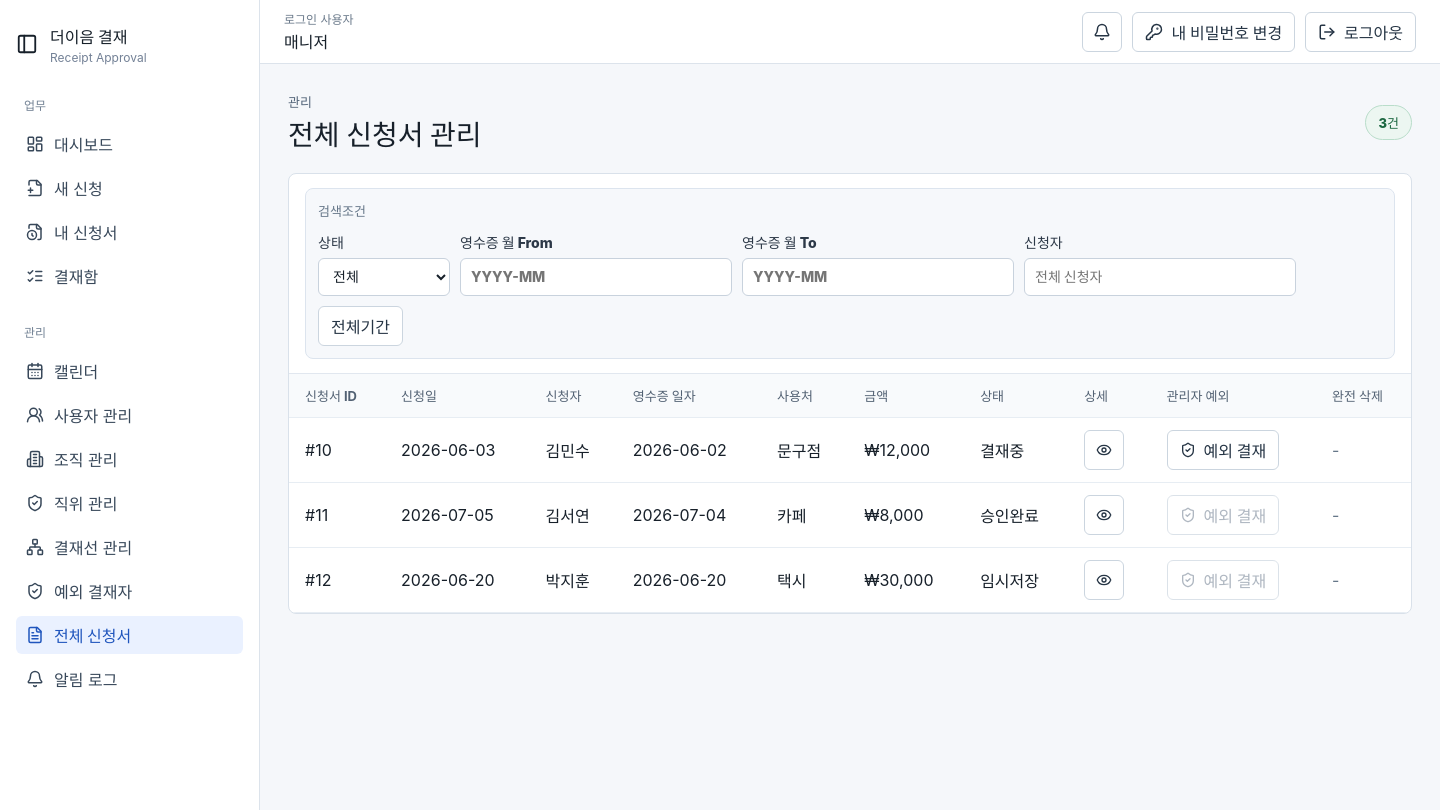
Test: AdminApplicationsPage › 매니저는 전체 신청서에서 상세 화면으로 이동할 수 있다
The width and height of the screenshot is (1440, 810).
Click the link named "신청서 10 상세": (1104, 450) [1084,430,1124,470]
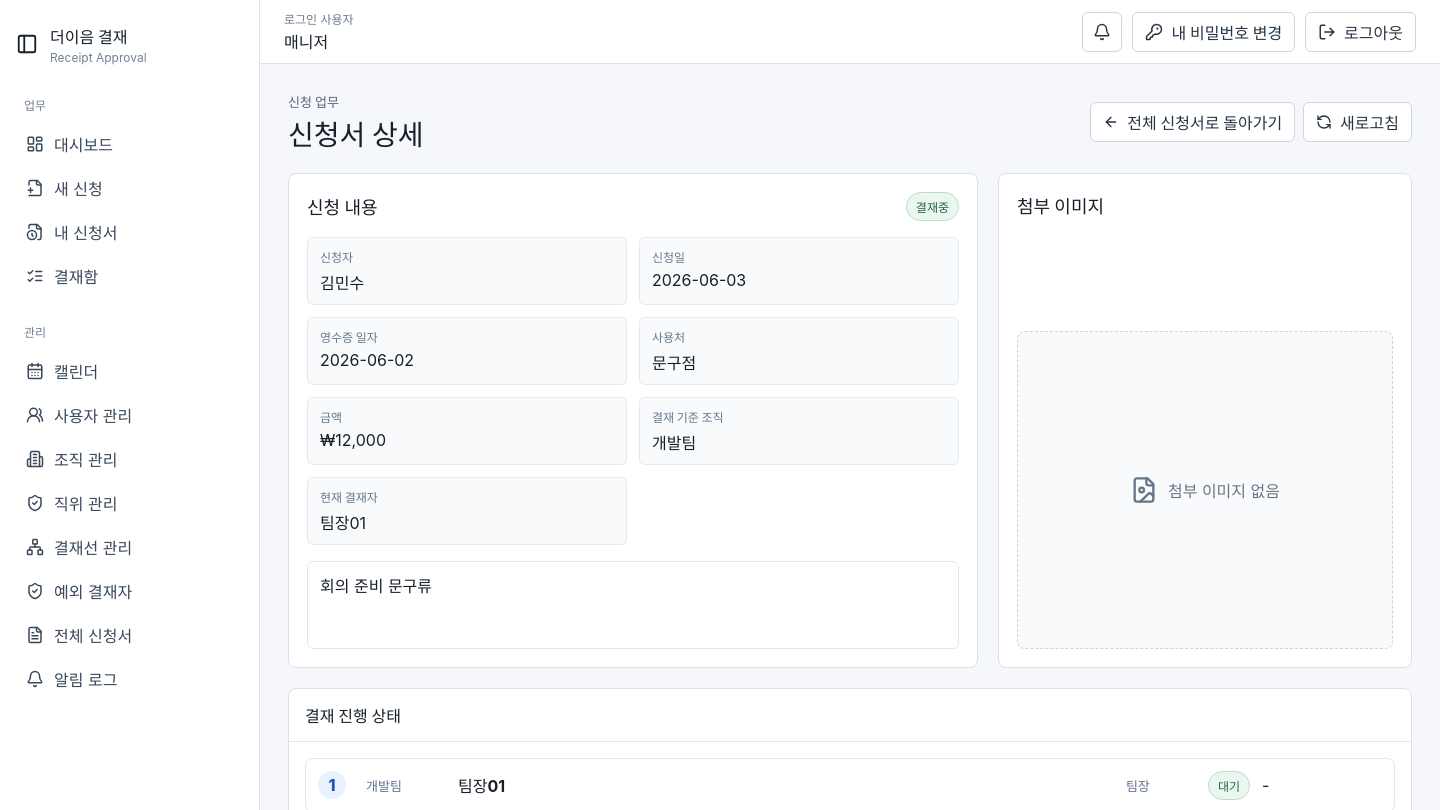
Expected: the heading "신청서 상세" is shown, [288,119,423,153]
Expected: the text "회의 준비 문구류" is shown, [307,561,959,649]
